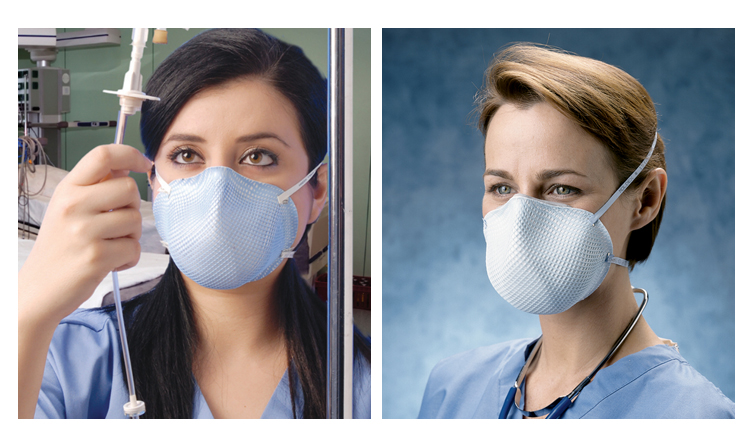face_mask: (155, 85, 310, 292), (479, 108, 614, 311)
